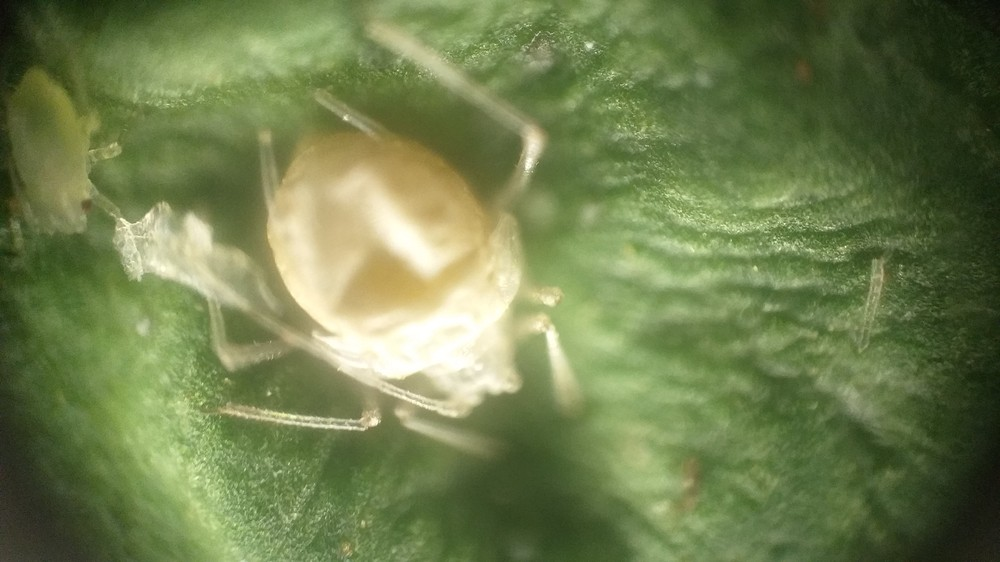Pulgon: (155, 26, 630, 482), (7, 46, 138, 270)
